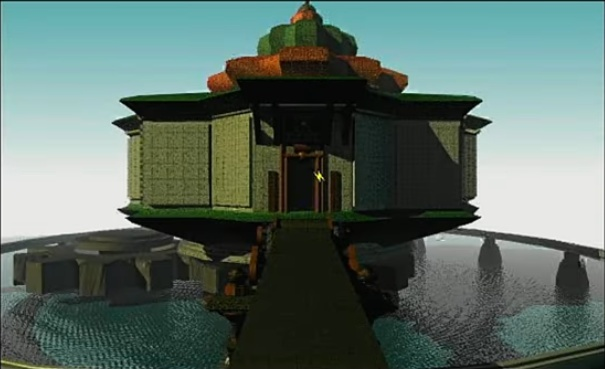Keep: (310, 166, 333, 185)
